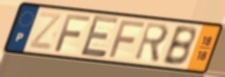B: (160, 25, 197, 68)
E: (78, 14, 121, 59)
F: (107, 19, 147, 60), (53, 13, 92, 54)
R: (132, 21, 170, 66)
Z: (26, 10, 65, 53)
